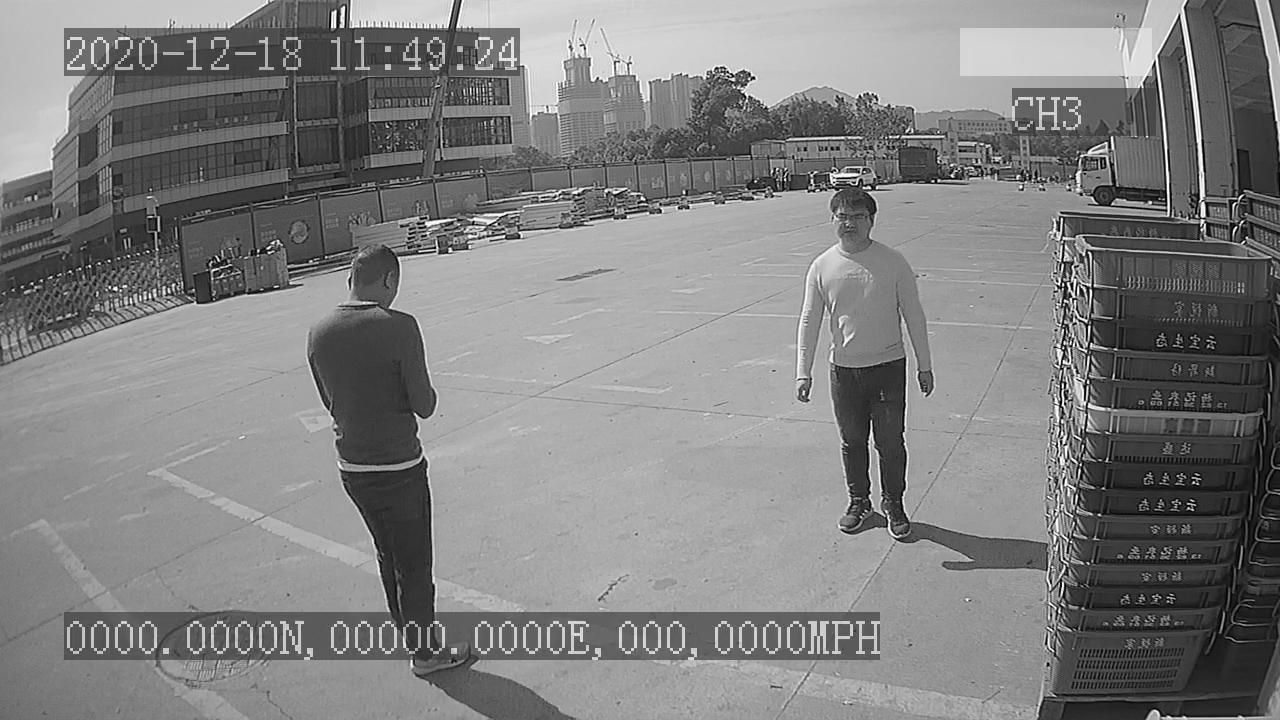person: (788, 179, 936, 545)
